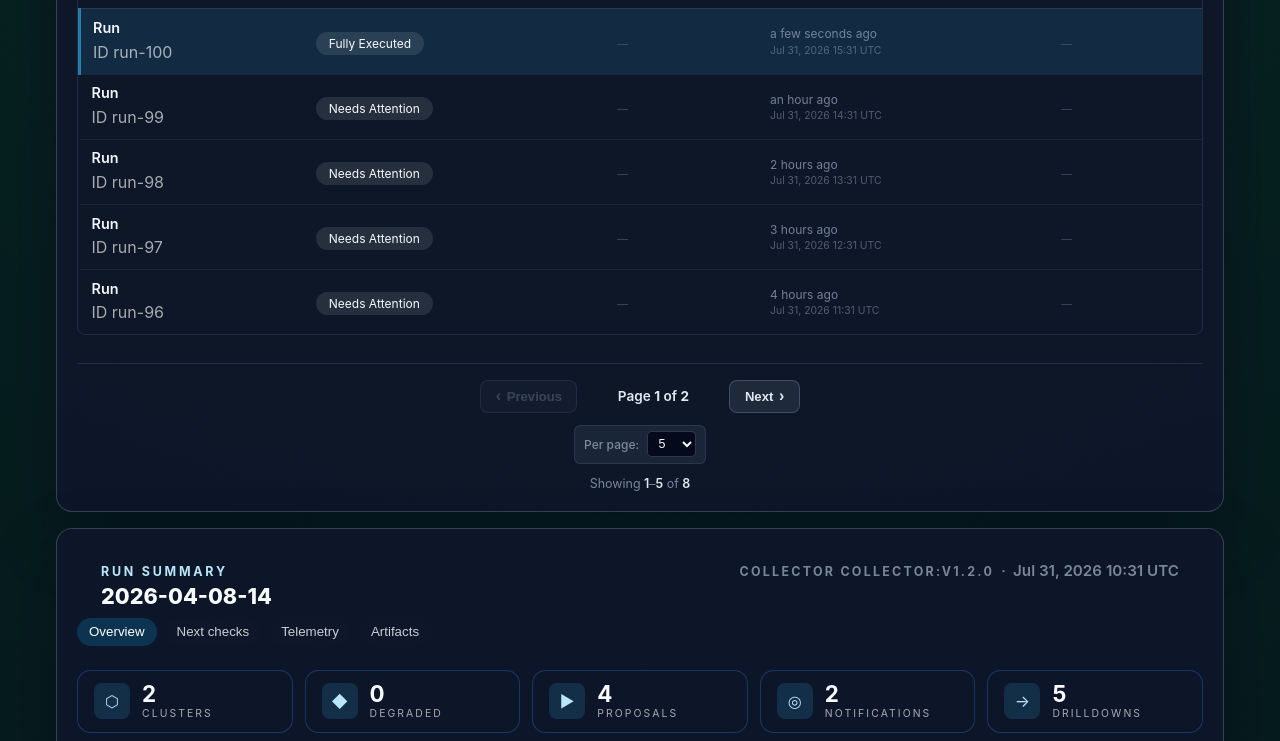
Detached notice visibility › detached + selected run visible on current page → notice NOT shown
The width and height of the screenshot is (1280, 741).
(page scrolled)
Expected: the 1st button with class "run-row" is shown, top-left (80, 9), bottom-right (1202, 74)
Click the button with aria-label "runs next page" at coordinates (765, 396), box top-left (730, 380), bottom-right (800, 413)
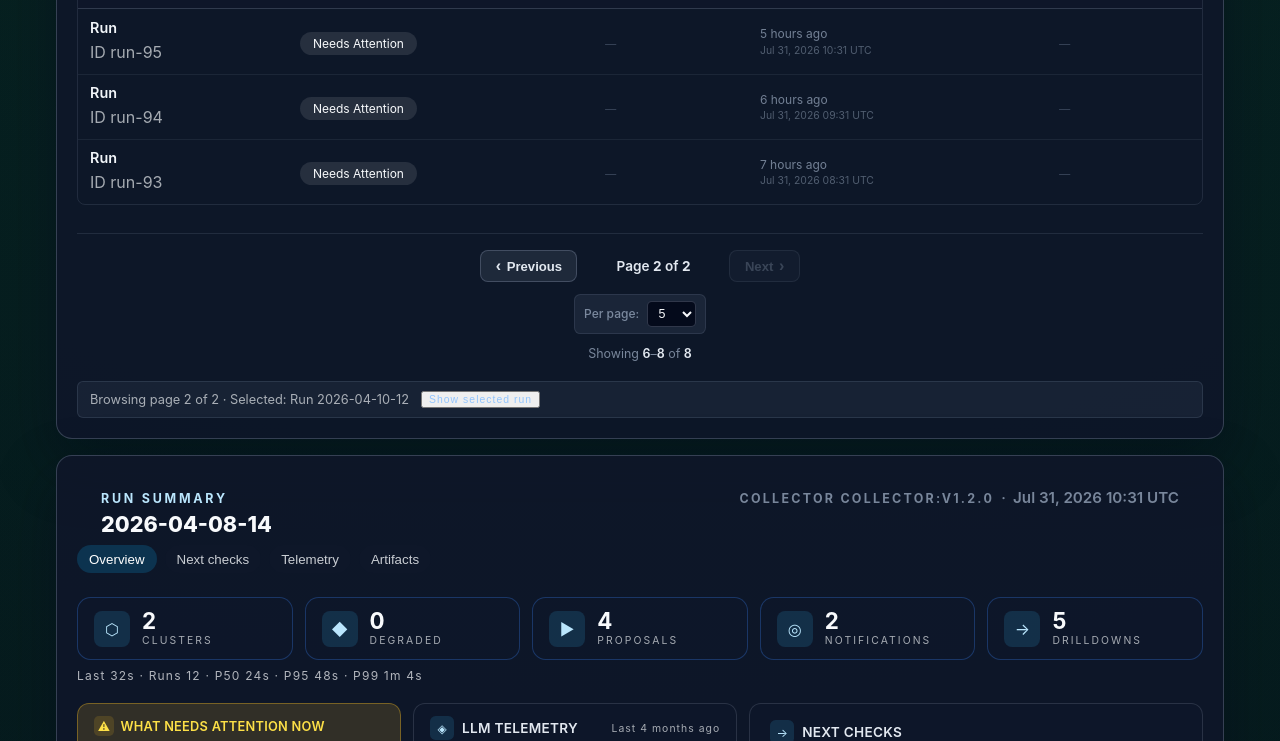
Expected: the element showing "Page 2 of 2" is shown, top-left (616, 258), bottom-right (690, 274)
Now the 1st button with class "run-row" is shown
Click the 1st button with class "run-row" at coordinates (640, 42), box top-left (78, 9), bottom-right (1202, 74)
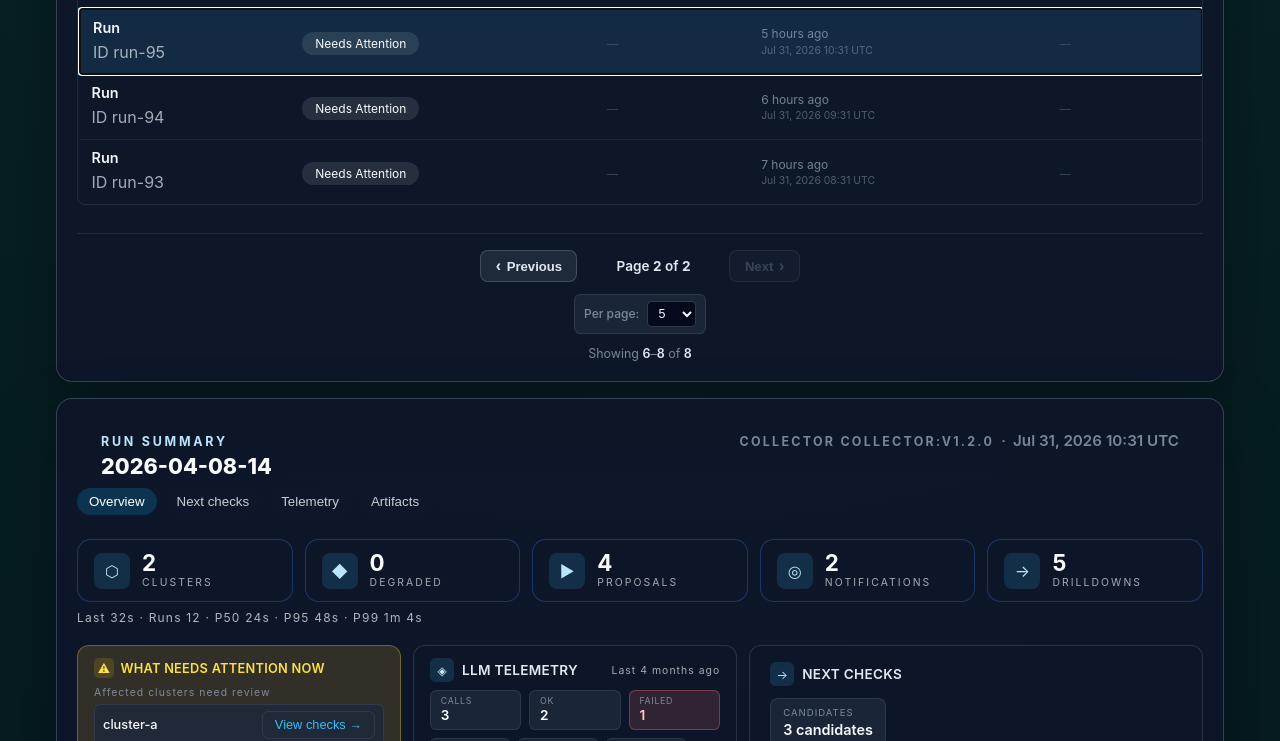
Now the 1st button with class "run-row" is shown, box top-left (80, 9), bottom-right (1202, 74)
Now the element with class "runs-detached-notice" is gone
